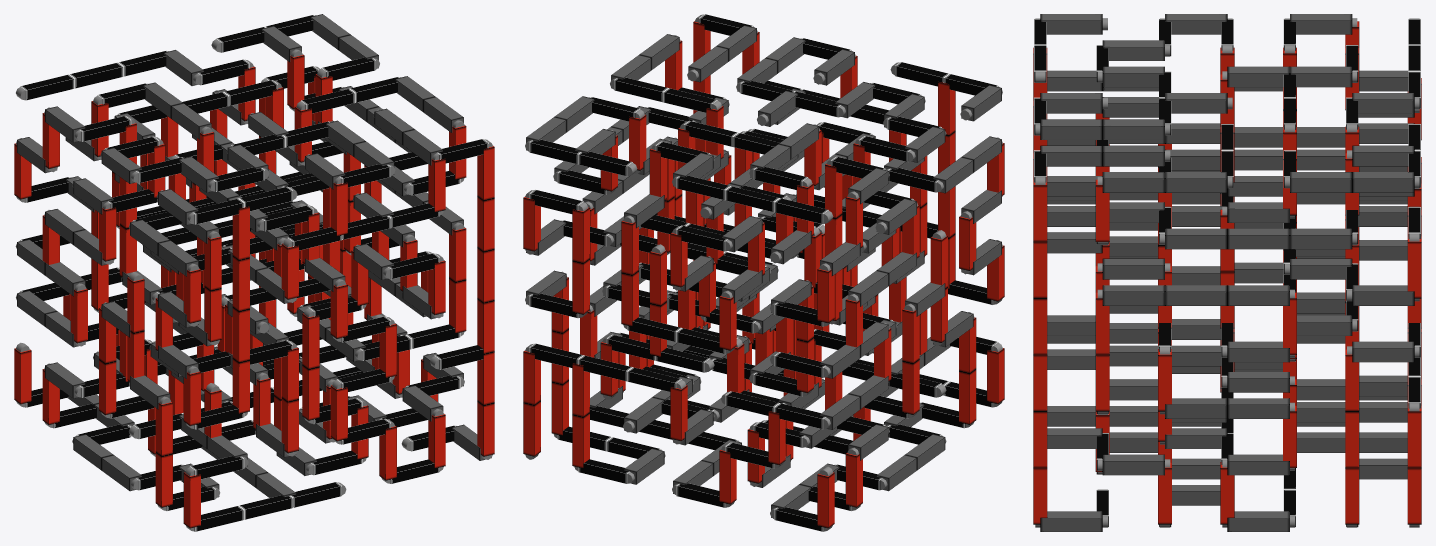
The model's file is maze-cube-7x7x7-mitchallen.glb.
The picture shows the model from 3 angles, left to right: view 1: azimuth 30°, elevation 25°; view 2: azimuth 150°, elevation 25°; view 3: azimuth 270°, elevation 25°; orthographic projection. The views are drawn at different scales.
Visible parts, largest first — view 1: cube (×150); view 2: cube (×158); view 3: cube (×106).
Boxes of the visible parts, left/top/right/bottom form: cube (×150): left=14, top=14, right=494, bottom=531; cube (×158): left=523, top=14, right=1004, bottom=531; cube (×106): left=1033, top=14, right=1421, bottom=531.
Bounding box in the file's own units: 18.75 × 18.75 × 18.68.
685 materials, 342 textured.
